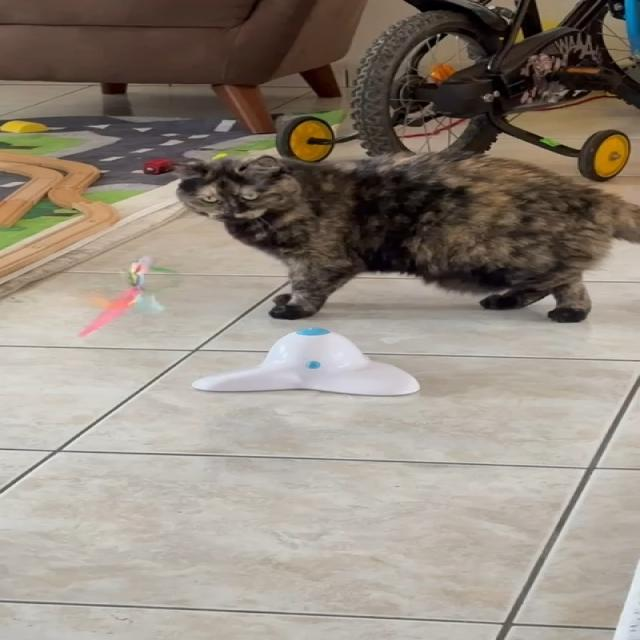authorized: (171, 149, 638, 322)
